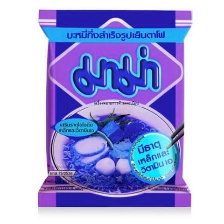snack: (28, 4, 200, 213)
